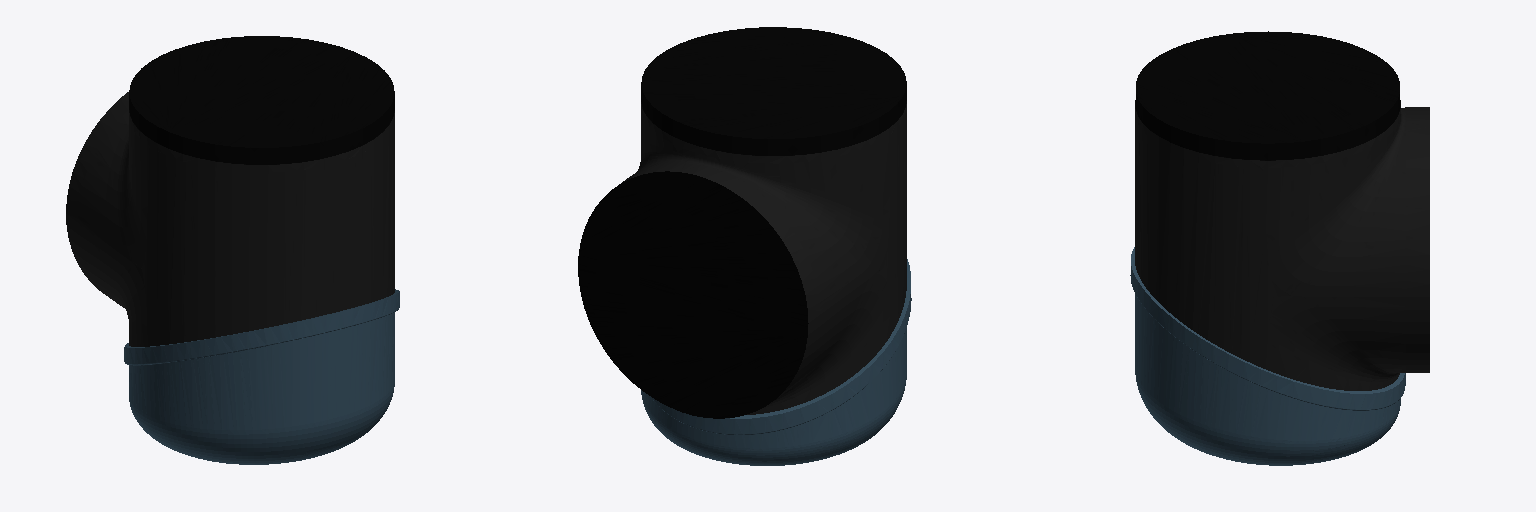
The picture shows the model from 3 angles: view 1: azimuth 30°, elevation 25°; view 2: azimuth 150°, elevation 25°; view 3: azimuth 270°, elevation 25°; orthographic projection.
Size of the model in its own units: 0.0775 by 0.1047 by 0.0842.
1 materials, 1 textured.